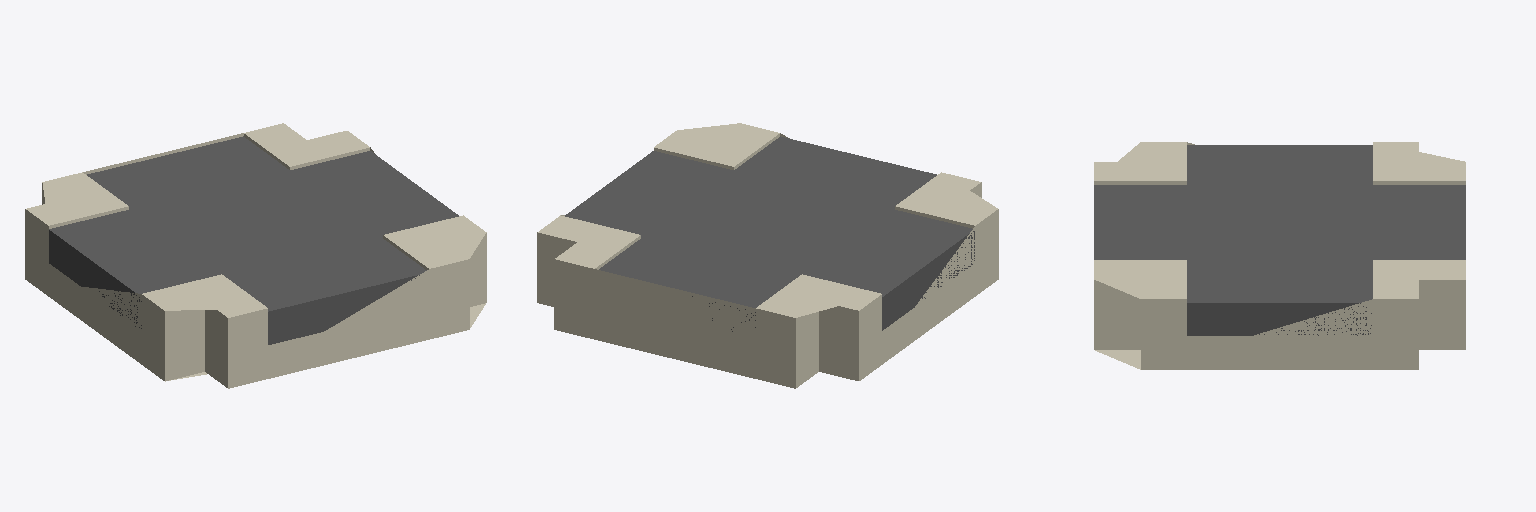
The picture shows the model from 3 angles: view 1: azimuth 30°, elevation 25°; view 2: azimuth 150°, elevation 25°; view 3: azimuth 270°, elevation 25°; orthographic projection.
Parts seen in each view (by area): view 1: roadTileCross; view 2: roadTileCross; view 3: roadTileCross.
Part boxes in pixels (x1,y1,x2,y2): roadTileCross: (25,123,486,388); roadTileCross: (537,123,998,388); roadTileCross: (1094,142,1465,369).
Bounding box in the file's own units: 3 × 0.63 × 3.